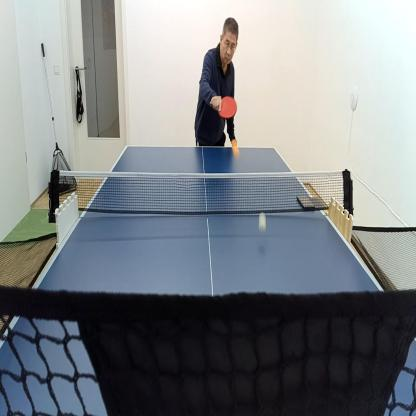Ball: (257, 211, 268, 234), (232, 144, 240, 158), (230, 136, 238, 149)
